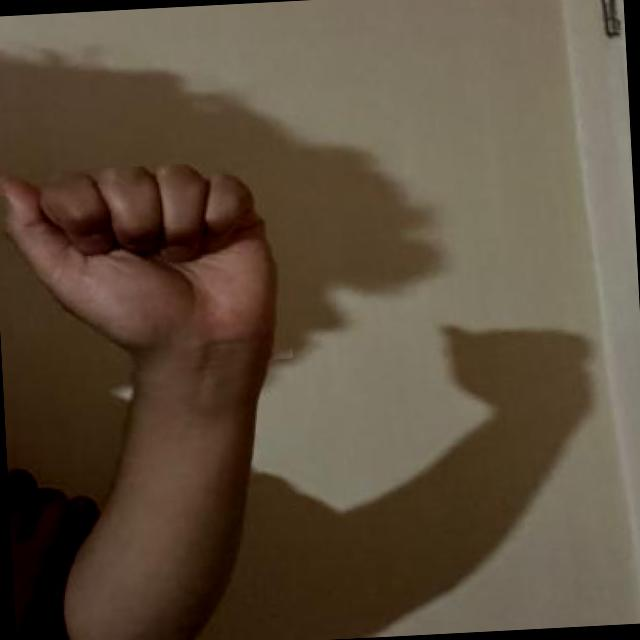A: (0, 158, 293, 383)
